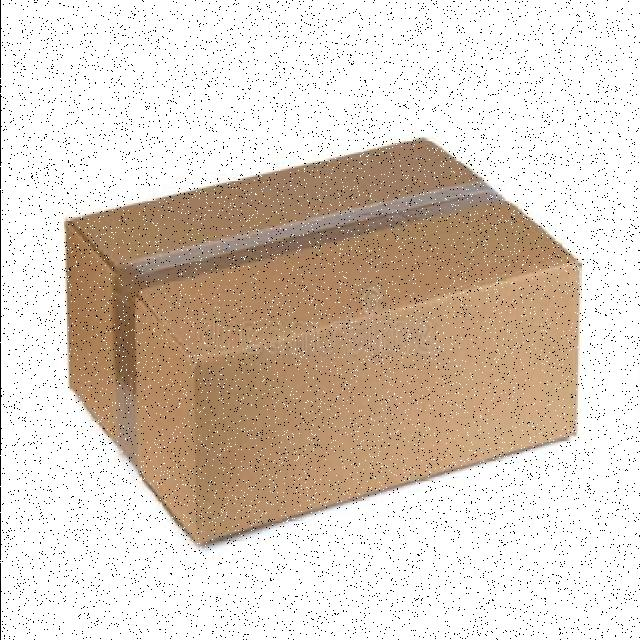normal: (58, 134, 584, 548)
